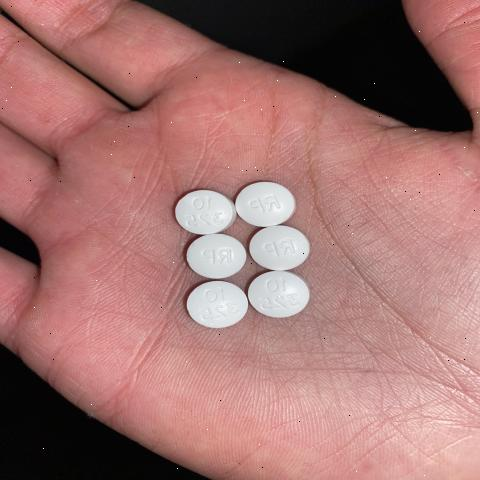Pill: (163, 277, 247, 332), (159, 182, 234, 235), (240, 221, 312, 273), (246, 267, 314, 322), (172, 228, 246, 276), (227, 179, 299, 227)
